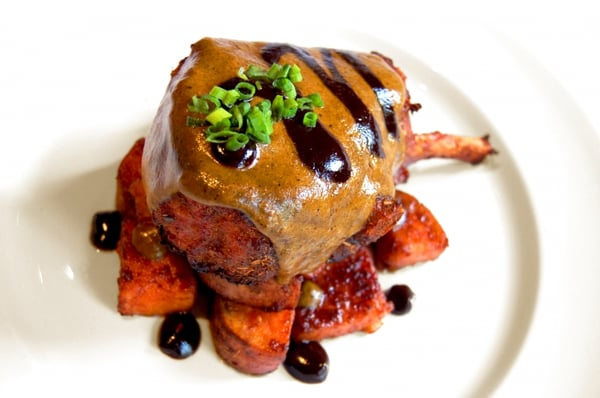soup: (111, 36, 418, 380)
